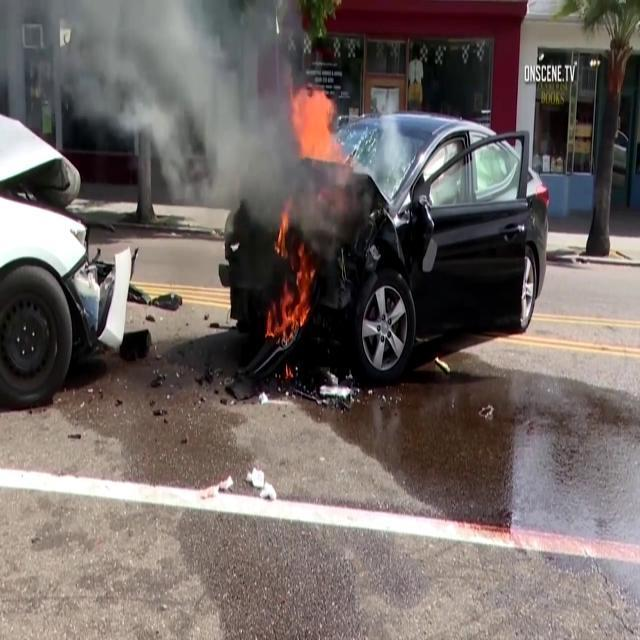Fire: (290, 81, 344, 164), (270, 248, 312, 351)
Smoke: (51, 0, 359, 247)
